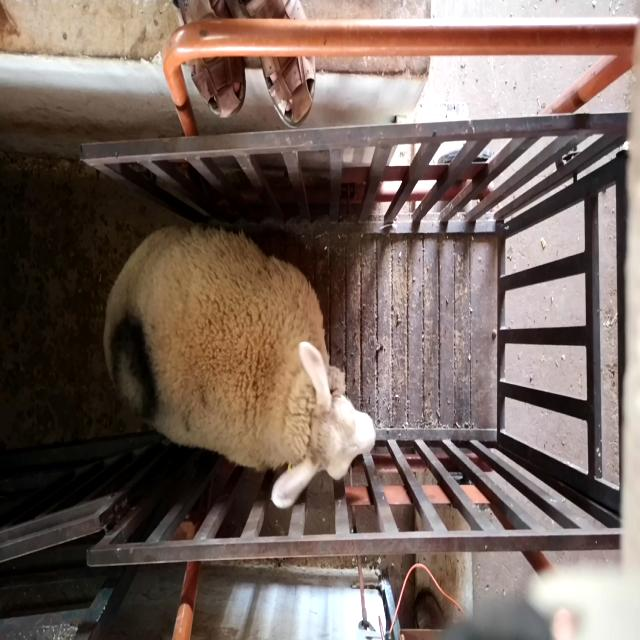sheep: (101, 223, 375, 509)
